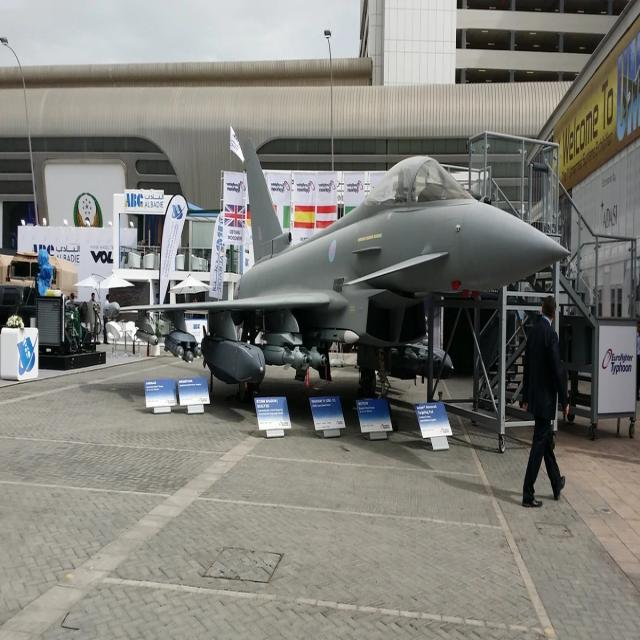MIL_Plane: (103, 137, 572, 406)
